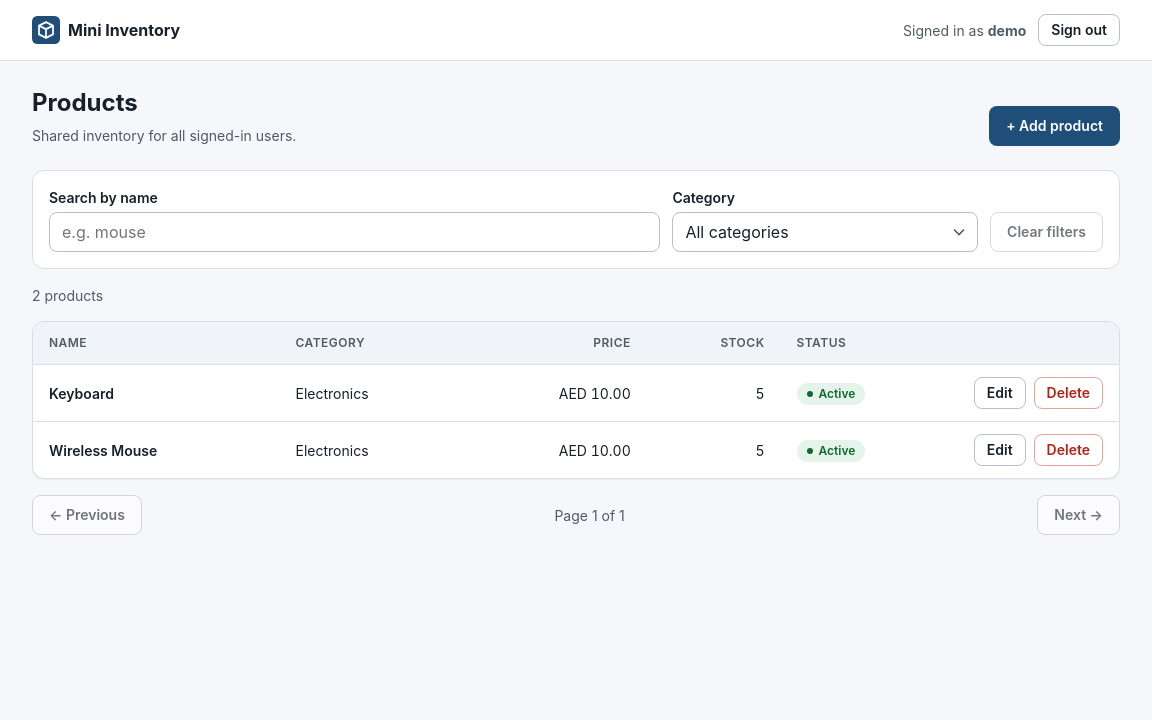
Test case: delete product › deletes after confirmation, disables repeat confirmation and refreshes
Click the button with aria-label "Delete Wireless Mouse": point(1068, 450) [1034,434,1103,466]
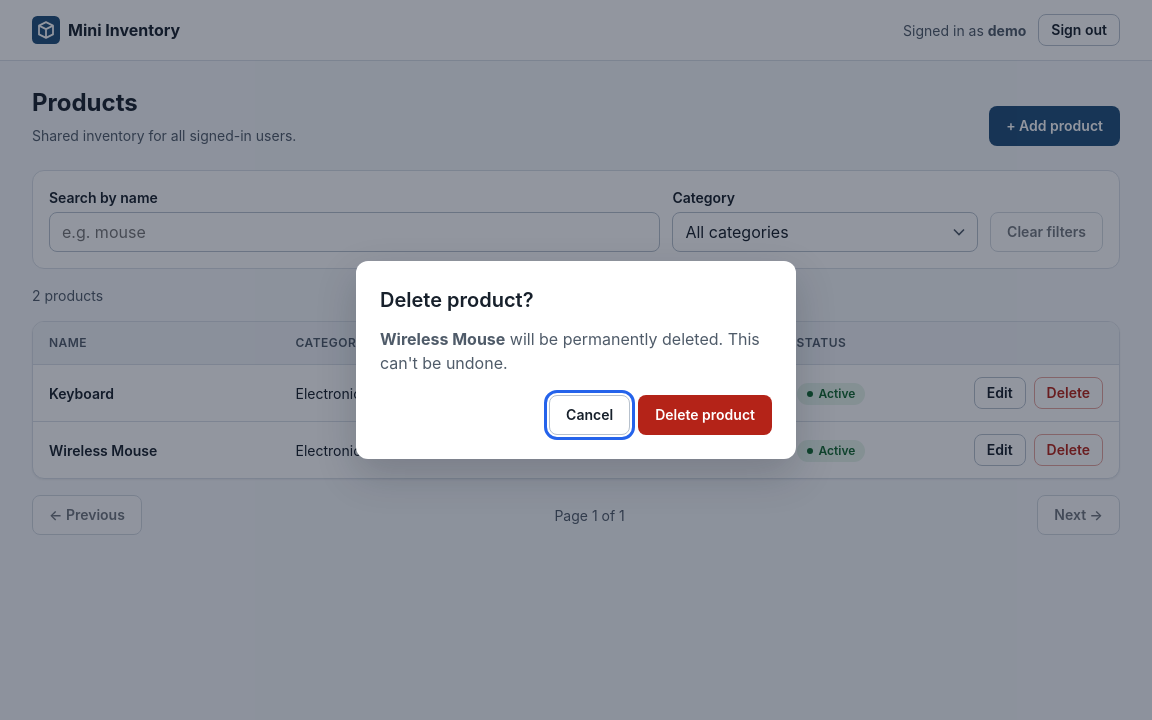
Click the button "Delete product": point(705, 415) [638,395,772,435]
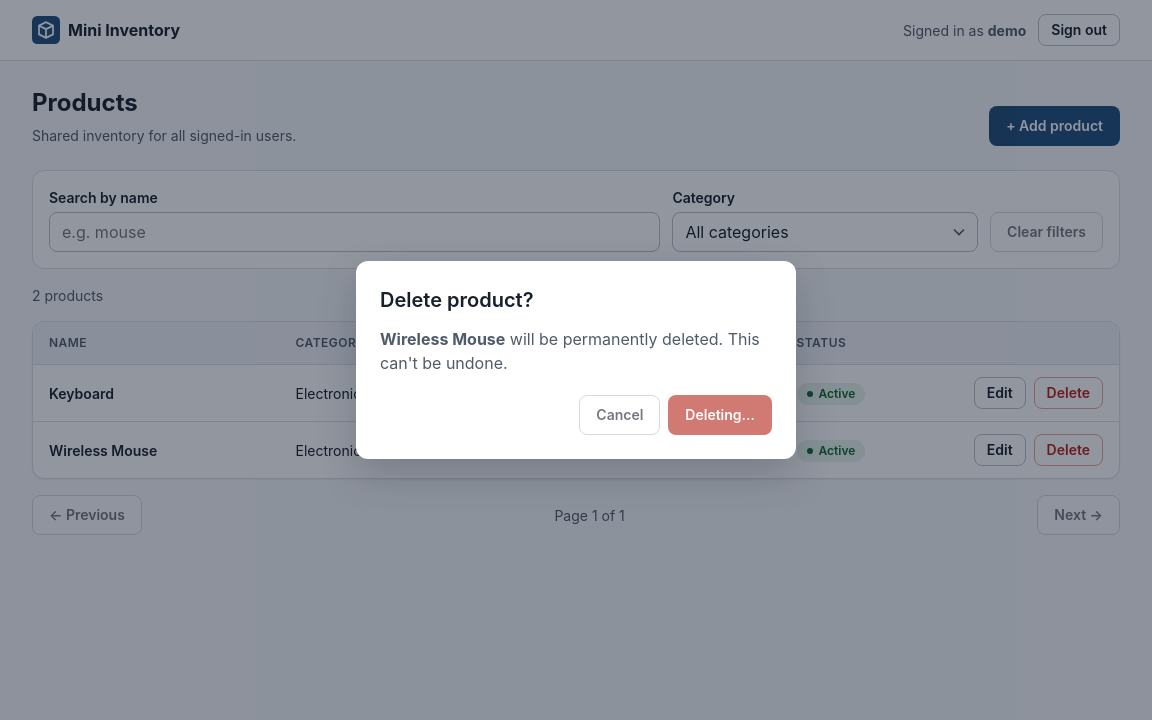
Check: the button "Deleting…" is disabled
Check: the button "Cancel" is disabled, box [579,395,660,435]
Click the button "Deleting…": point(720, 415) [668,395,772,435]
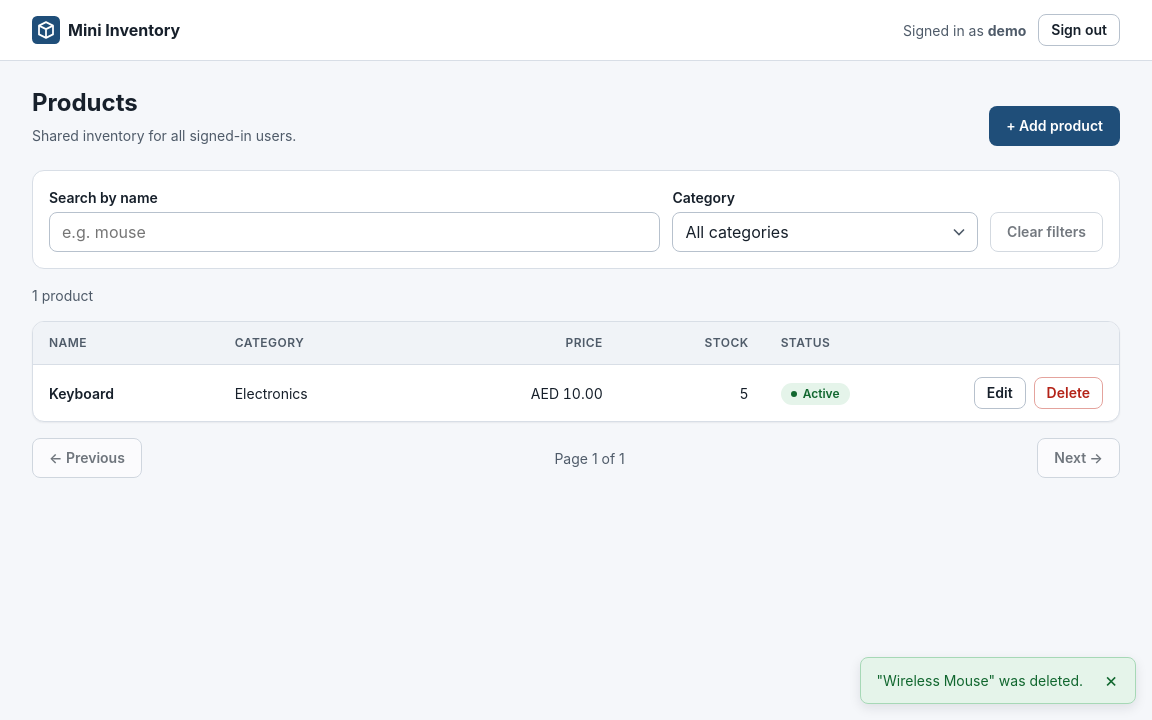
Check: the text "\"Wireless Mouse\" was deleted." is shown, box [876,670,1083,691]
Check: the dialog is gone
Check: the text "1 product" is shown, box [32,285,93,309]
